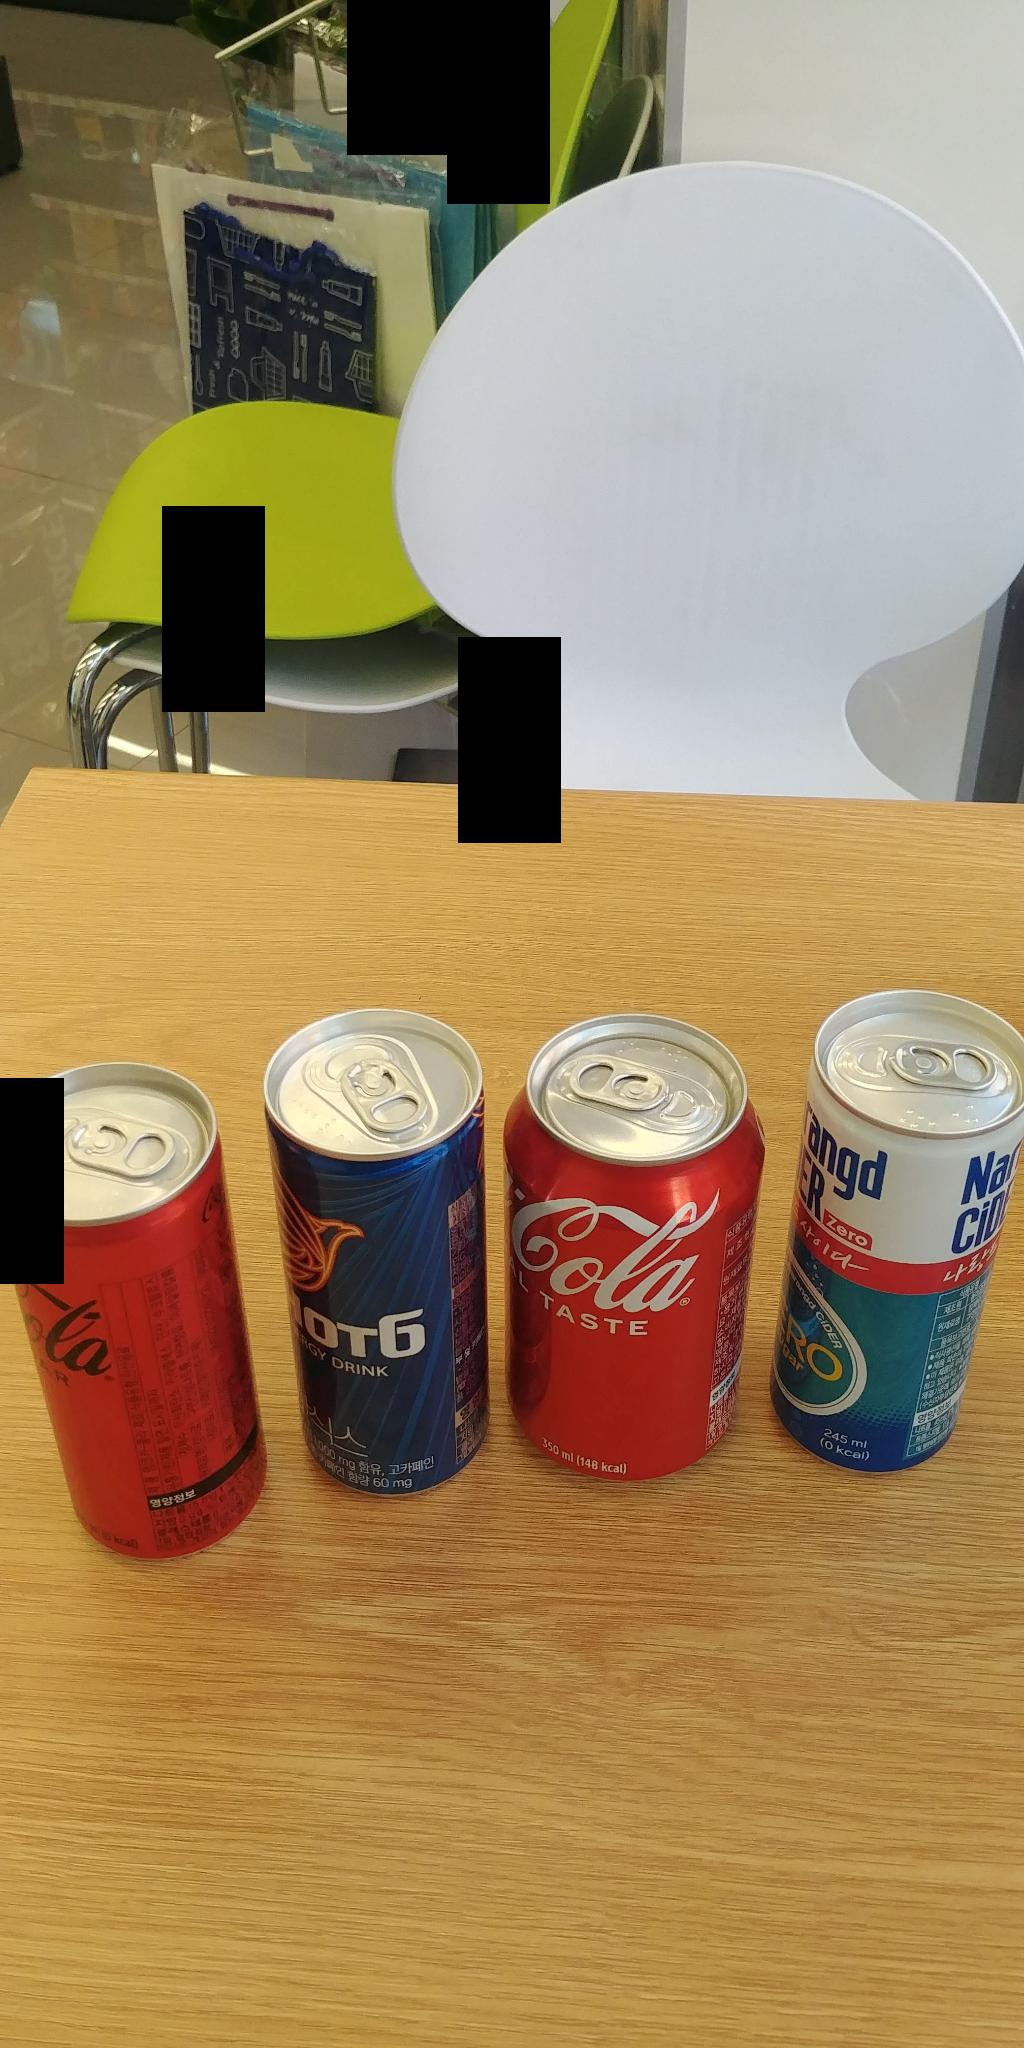cocacola: (499, 1053, 768, 1479)
hotsix_org: (268, 1010, 492, 1486)
narangdcider: (799, 999, 1023, 1469)
